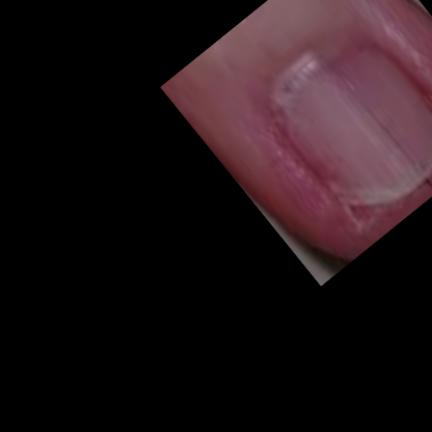Nail: (271, 38, 430, 205)
